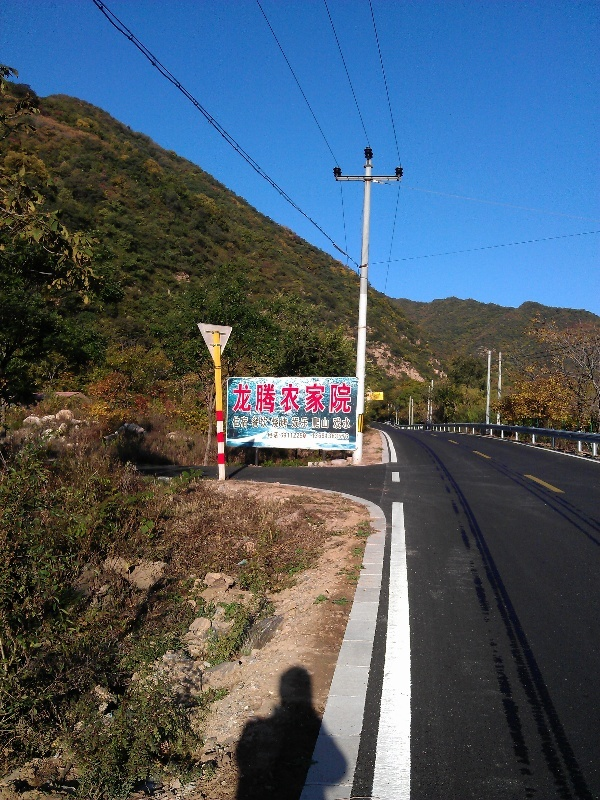text: (241, 382, 256, 415), (257, 382, 272, 415), (273, 382, 288, 415), (289, 382, 304, 415), (305, 382, 320, 415), (321, 382, 336, 415), (337, 382, 352, 415), (232, 382, 240, 415), (273, 416, 288, 429), (337, 417, 351, 430), (291, 417, 304, 429), (257, 416, 268, 428), (273, 432, 288, 439), (289, 432, 304, 439), (321, 433, 336, 440), (232, 416, 240, 429), (241, 416, 249, 429), (312, 417, 320, 429), (321, 417, 329, 429), (337, 433, 349, 440), (313, 433, 320, 440), (252, 416, 256, 428), (333, 417, 336, 430), (305, 417, 308, 429), (268, 432, 272, 439), (305, 432, 307, 439), (271, 416, 272, 429)
